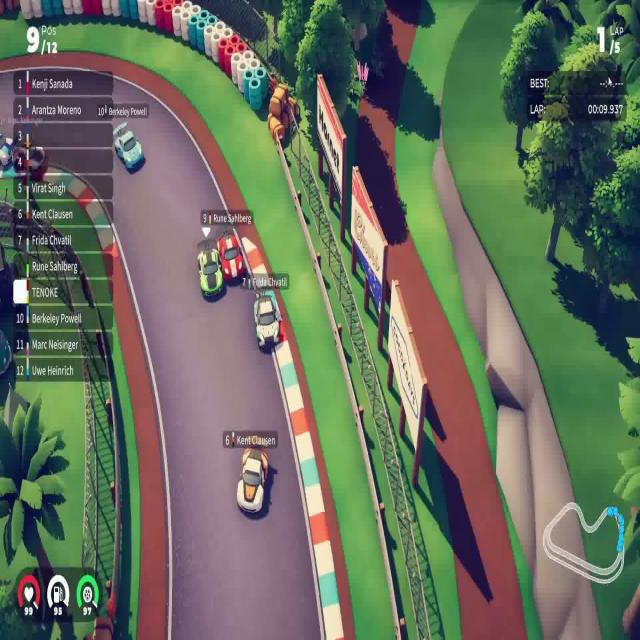car: (236, 446, 269, 515), (253, 291, 282, 350), (196, 244, 224, 300), (217, 230, 246, 284), (113, 122, 143, 172)
